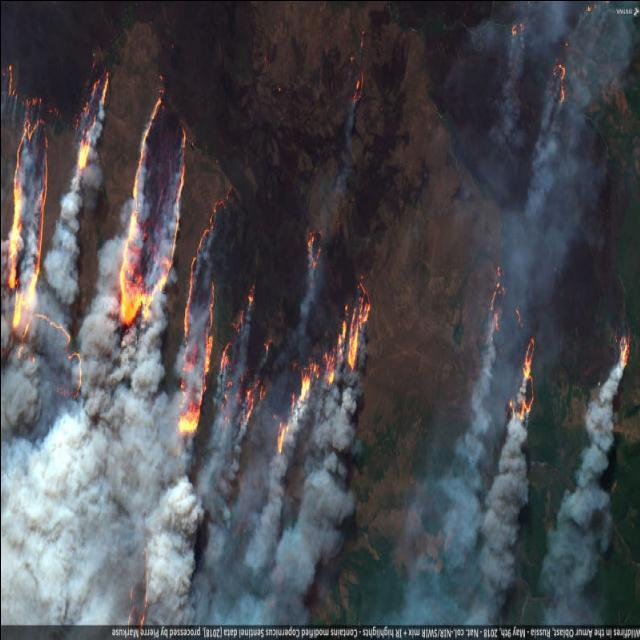Fire: (2, 61, 374, 452), (496, 324, 546, 420)
